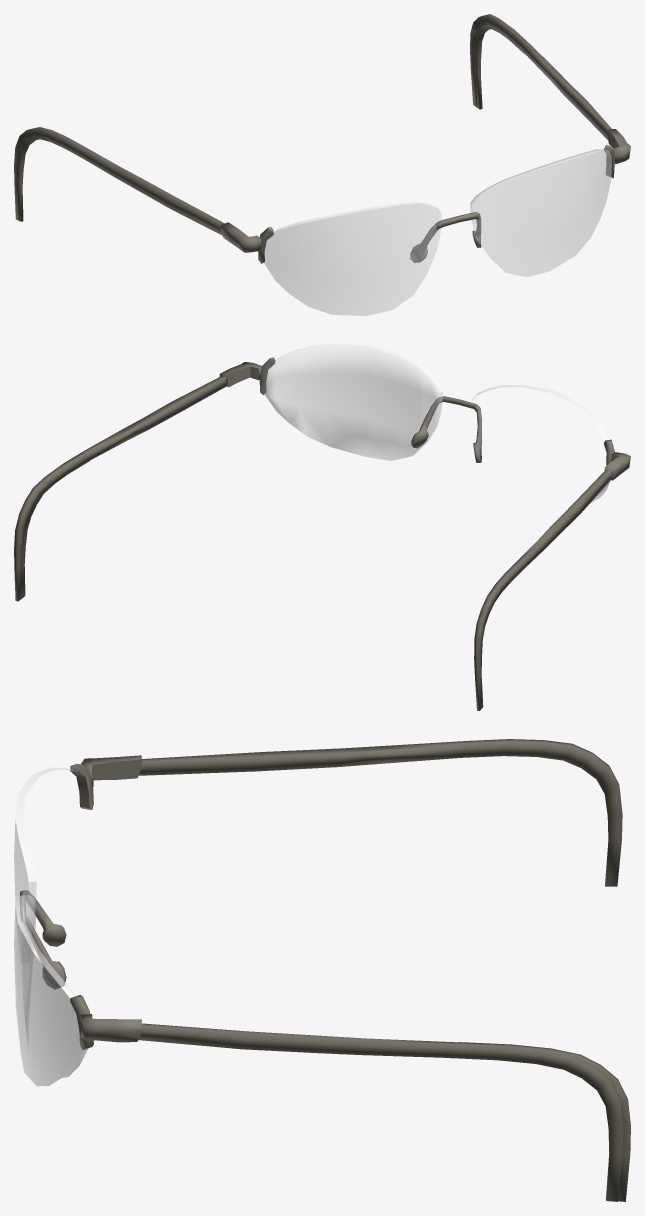
The picture shows the model from 3 angles, top to bottom: view 1: azimuth 30°, elevation 25°; view 2: azimuth 150°, elevation 25°; view 3: azimuth 270°, elevation 25°; orthographic projection. The views are drawn at different scales.
Visible parts, largest first — view 1: Wolf3D_Glasses; view 2: Wolf3D_Glasses; view 3: Wolf3D_Glasses.
Part boxes in pixels (x1=…): Wolf3D_Glasses: x1=14, y1=14, x2=630, y2=315; Wolf3D_Glasses: x1=14, y1=344, x2=630, y2=710; Wolf3D_Glasses: x1=14, y1=739, x2=630, y2=1201.
Size of the model in its own units: 0.1629 by 0.0444 by 0.1338.
1 material, 1 textured.
